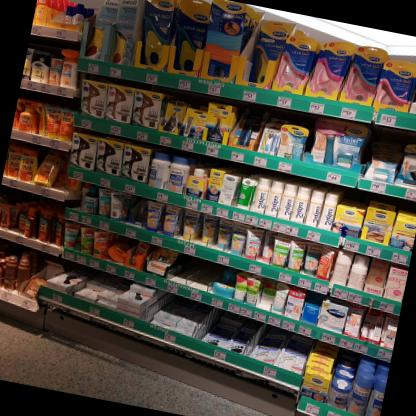empty_space: (168, 254, 218, 301)
